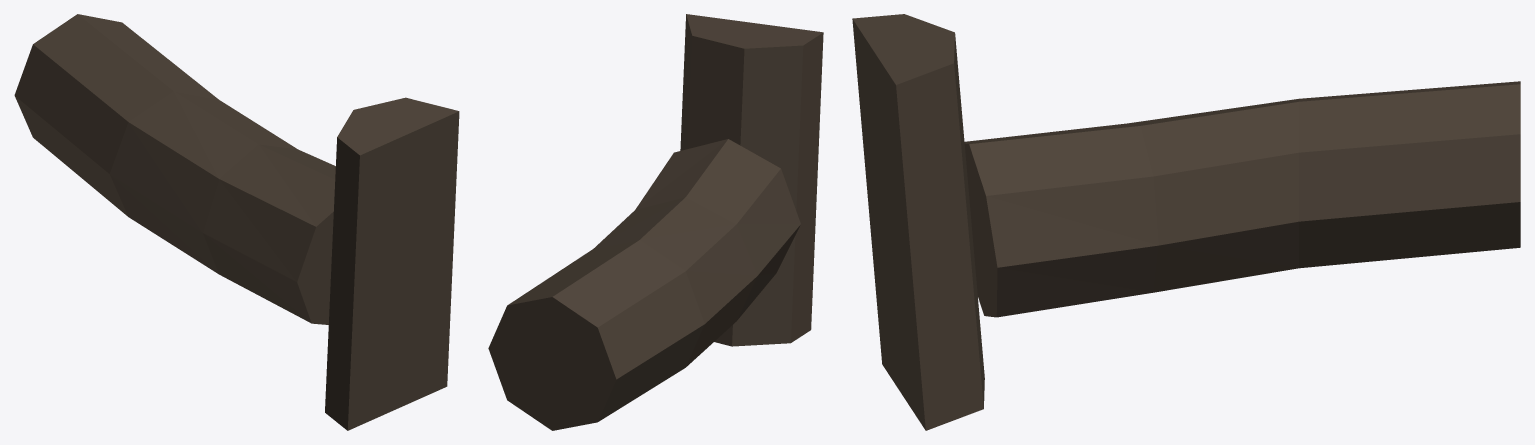
Rendered from save_foothold.obj.
3 views of the same model, side by side, from view 1: azimuth 30°, elevation 25°; view 2: azimuth 150°, elevation 25°; view 3: azimuth 270°, elevation 25° (orthographic). The views are drawn at different scales.
Parts seen in each view (by area): view 1: product-62f74530-261a-4cbc-afb1-64c21061876c-body, product-651348c3-64e6-4707-8d6d-bdf804e3217f-body; view 2: product-62f74530-261a-4cbc-afb1-64c21061876c-body, product-651348c3-64e6-4707-8d6d-bdf804e3217f-body; view 3: product-62f74530-261a-4cbc-afb1-64c21061876c-body, product-651348c3-64e6-4707-8d6d-bdf804e3217f-body.
Part boxes in pixels (x1,y1,x2,y2): product-62f74530-261a-4cbc-afb1-64c21061876c-body: (14, 14, 335, 324); product-651348c3-64e6-4707-8d6d-bdf804e3217f-body: (325, 97, 459, 430); product-62f74530-261a-4cbc-afb1-64c21061876c-body: (488, 139, 800, 430); product-651348c3-64e6-4707-8d6d-bdf804e3217f-body: (680, 14, 823, 346); product-62f74530-261a-4cbc-afb1-64c21061876c-body: (964, 81, 1520, 317); product-651348c3-64e6-4707-8d6d-bdf804e3217f-body: (852, 14, 984, 430).
Bounding box in the file's own units: 0.1431 × 0.211 × 0.3619.
